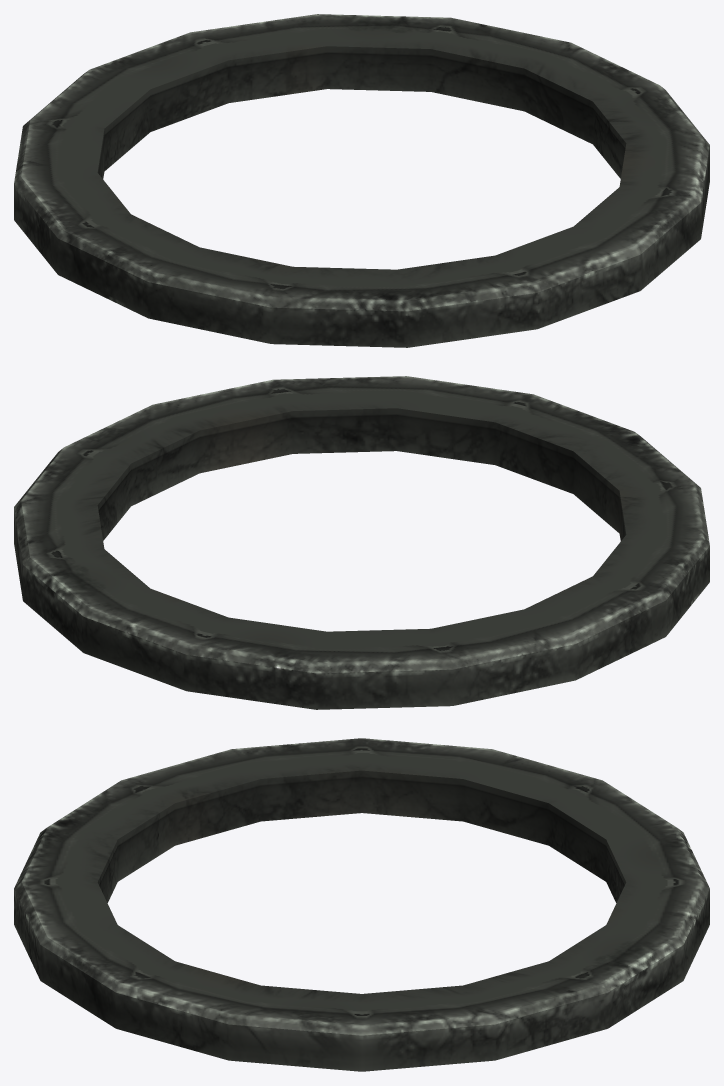
Rendered from SM_Dome_round.FBX.
3 views of the same model, one above another, from view 1: azimuth 30°, elevation 25°; view 2: azimuth 150°, elevation 25°; view 3: azimuth 270°, elevation 25° (orthographic).
Visible parts, largest first — view 1: Dome_round; view 2: Dome_round; view 3: Dome_round.
Part boxes in pixels (x1,y1,x2,y2): Dome_round: (14, 14, 709, 347); Dome_round: (14, 376, 709, 709); Dome_round: (14, 738, 709, 1071).
Bounding box in the file's own units: 338 × 338 × 22.79.
